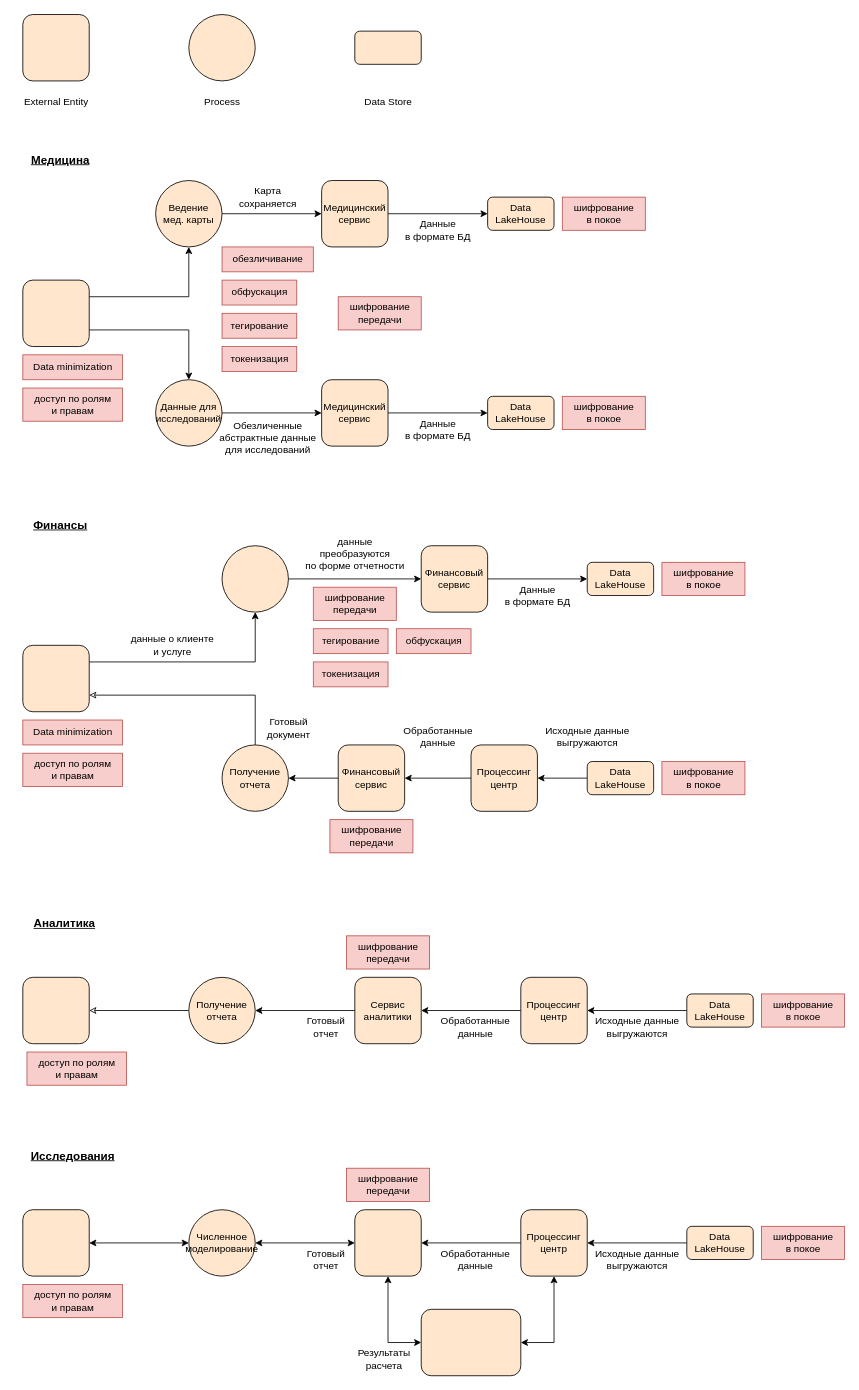
The diagram is 859 pixels wide and 1390 high, and some of its shapes have lost their labels. The centre of each missing label's shape, as x and y in pixels:
"Аналитик" belongs at [55,1010].
"Врач" belongs at [55,313].
"Вычислительный кластер" belongs at [470,1342].
"Клерк" belongs at [55,678].
"Оформление услуги" belongs at [254,578].
"Сервис исследований" belongs at [387,1242].
"Ученый" belongs at [55,1242].
